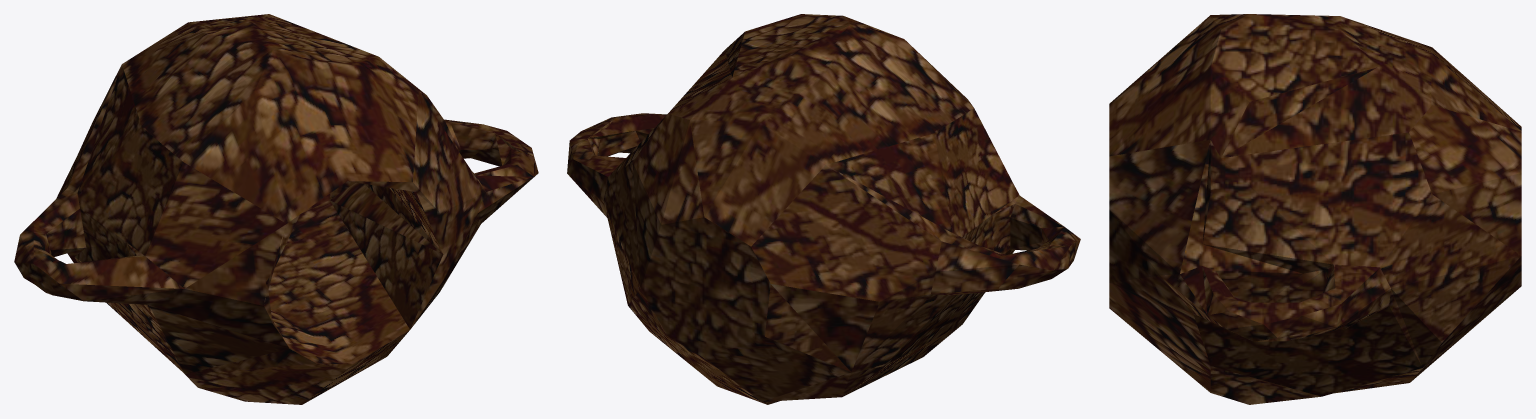
Rendered from antiquevase_wtf.obj.
The picture shows the model from 3 angles, left to right: view 1: azimuth 30°, elevation 25°; view 2: azimuth 150°, elevation 25°; view 3: azimuth 270°, elevation 25°; orthographic projection. The views are drawn at different scales.
Parts seen in each view (by area): view 1: group2; view 2: group2; view 3: group2.
Part boxes in pixels (bbox=[...]): group2: bbox=[14, 14, 538, 404]; group2: bbox=[567, 14, 1080, 404]; group2: bbox=[1109, 14, 1521, 404].
Bounding box in the file's own units: 660 × 443 × 449.
